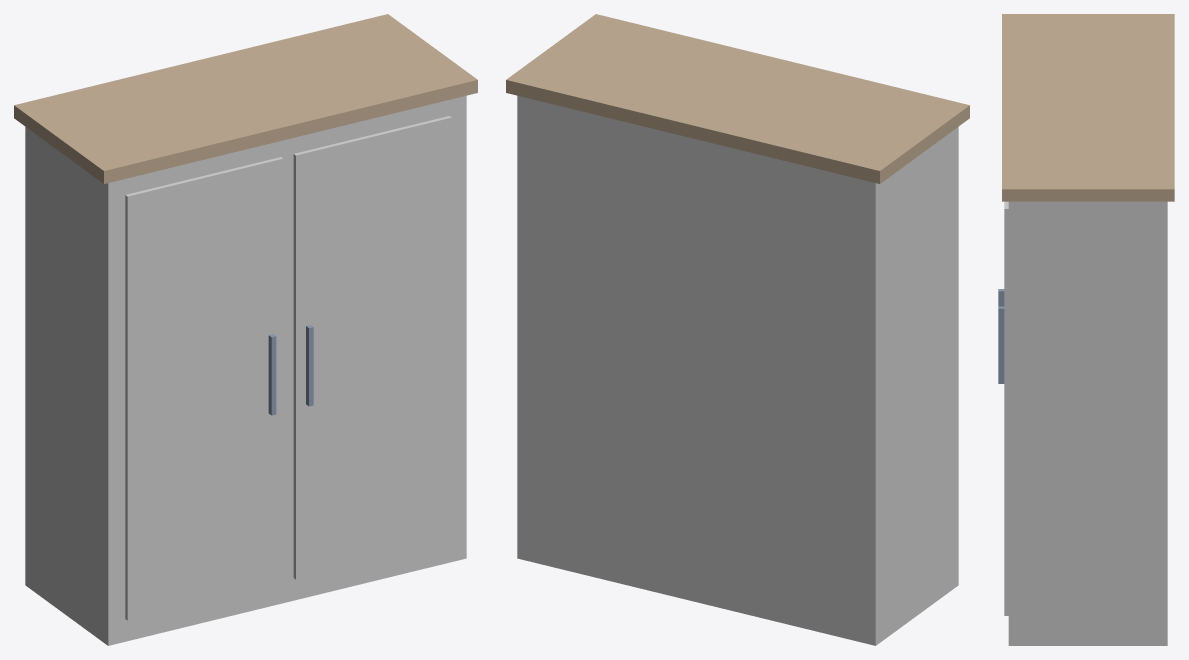
The model's file is storage_cabinet.glb.
3 views of the same model, side by side, from view 1: azimuth 30°, elevation 25°; view 2: azimuth 150°, elevation 25°; view 3: azimuth 270°, elevation 25° (orthographic). The views are drawn at different scales.
Visible parts, largest first — view 1: CabinetBody, DoorRight, DoorLeft, CabinetTop, HandleLeft; view 2: CabinetBody, CabinetTop; view 3: CabinetBody, CabinetTop, DoorRight, HandleRight.
Part boxes in pixels (x1,y1,x2,y2): CabinetBody: (25,95,466,645); DoorRight: (293,116,451,579); DoorLeft: (125,157,283,620); CabinetTop: (14,14,477,183); HandleLeft: (268,334,276,415); CabinetBody: (517,95,958,645); CabinetTop: (506,14,969,183); CabinetBody: (1008,201,1167,645); CabinetTop: (1002,14,1174,201); DoorRight: (1004,201,1008,615); HandleRight: (998,306,1004,383).
Bounding box in the file's own units: 1.2 × 1.47 × 0.51.
